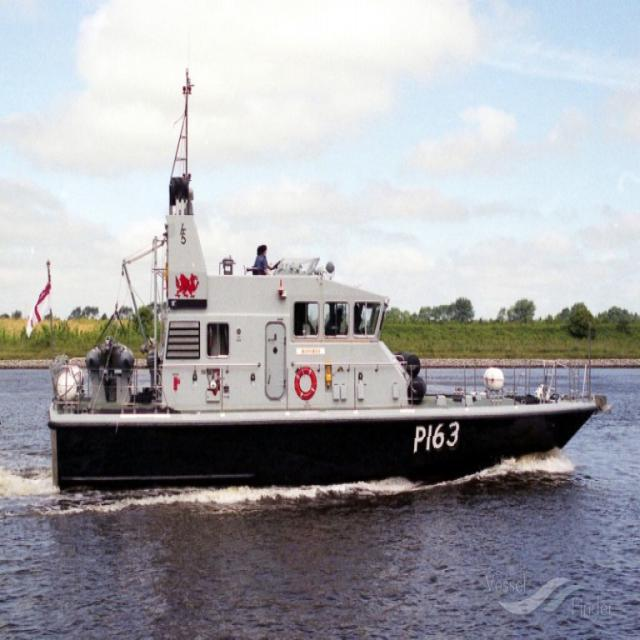OCR: (411, 421, 462, 458)
